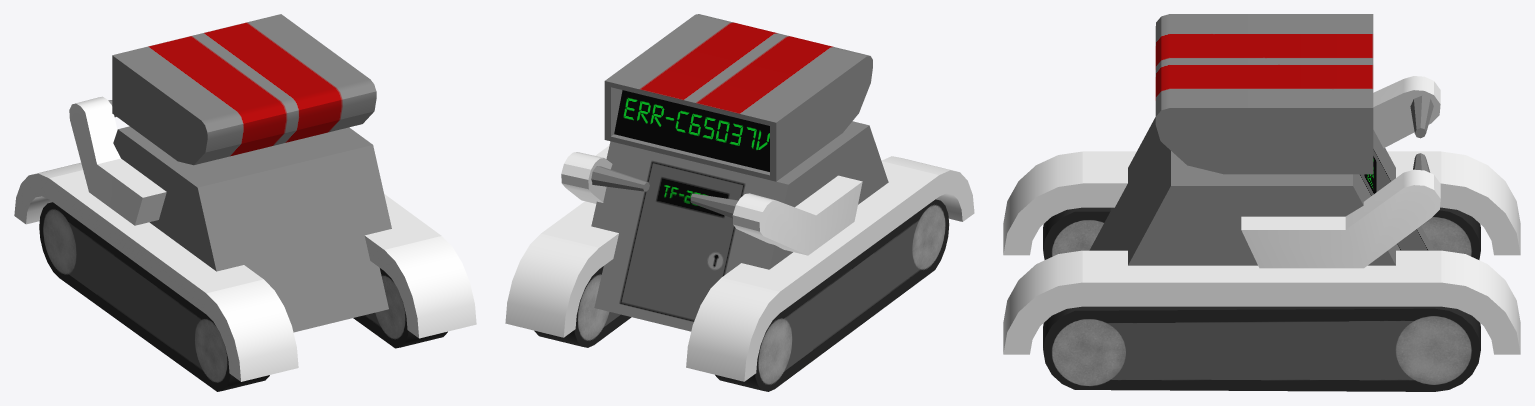
The model's file is alpha_enemy_bot.fbx.
The picture shows the model from 3 angles, left to right: view 1: azimuth 30°, elevation 25°; view 2: azimuth 150°, elevation 25°; view 3: azimuth 270°, elevation 25°; orthographic projection. The views are drawn at different scales.
Parts seen in each view (by area): view 1: Enemy_Bot_Main, Enemy_Bot_Head, Enemy_Bot_Tracks, Enemy_Bot_Tracks1; view 2: Enemy_Bot_Main, Enemy_Bot_Head, Enemy_Bot_Tracks, Enemy_Bot_Tracks1; view 3: Enemy_Bot_Main, Enemy_Bot_Tracks1, Enemy_Bot_Head, Enemy_Bot_Tracks.
Boxes of the visible parts, box(x1,y1,x2,y2) form: Enemy_Bot_Main: box(14, 96, 476, 381); Enemy_Bot_Head: box(112, 14, 376, 165); Enemy_Bot_Tracks: box(39, 202, 269, 391); Enemy_Bot_Tracks1: box(353, 268, 447, 348); Enemy_Bot_Main: box(505, 121, 974, 381); Enemy_Bot_Head: box(604, 14, 872, 181); Enemy_Bot_Tracks: box(715, 199, 949, 391); Enemy_Bot_Tracks1: box(534, 266, 631, 347); Enemy_Bot_Main: box(1003, 76, 1520, 354); Enemy_Bot_Tracks1: box(1043, 306, 1480, 391); Enemy_Bot_Head: box(1155, 14, 1373, 174); Enemy_Bot_Tracks: box(1043, 207, 1480, 259).
Bounding box in the file's own units: 79.37 × 76.16 × 132.
